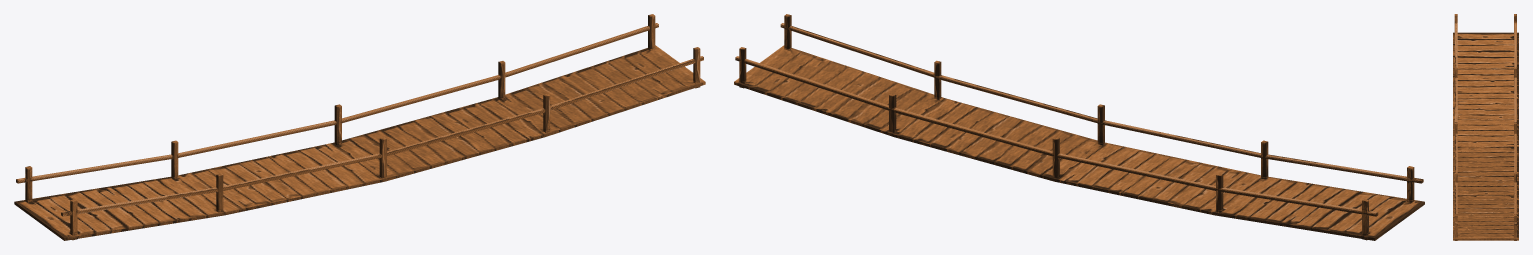
File: ponte.fbx
The picture shows the model from 3 angles, left to right: view 1: azimuth 30°, elevation 25°; view 2: azimuth 150°, elevation 25°; view 3: azimuth 270°, elevation 25°; orthographic projection. The views are drawn at different scales.
Parts seen in each view (by area): view 1: ponte; view 2: ponte; view 3: ponte.
Boxes of the visible parts, x1,y1,x2,y2 form: ponte: [14, 14, 705, 240]; ponte: [734, 14, 1424, 240]; ponte: [1453, 14, 1518, 240].
Size of the model in its own units: 4963 by 406 by 670.
